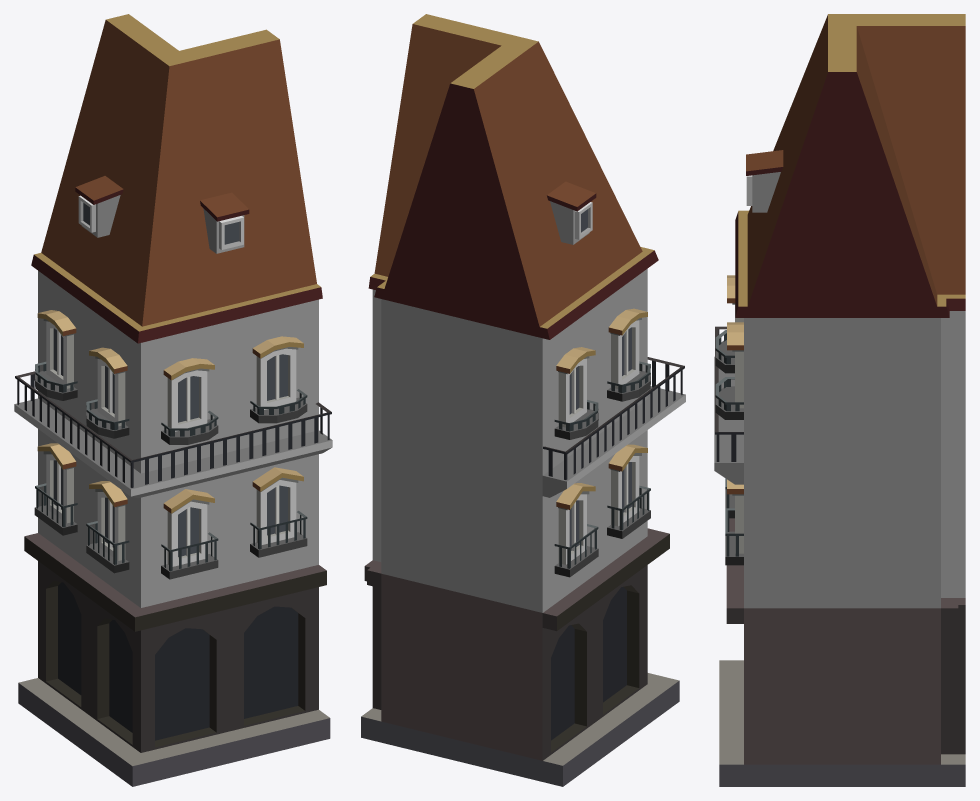
Rendered from TB_CITY_BD_T_Corner_3_C.FBX.
3 renders of one model, left to right at view 1: azimuth 30°, elevation 25°; view 2: azimuth 150°, elevation 25°; view 3: azimuth 270°, elevation 25°, orthographic. The views are drawn at different scales.
Visible parts, largest first — view 1: TB_CITY_BD_T_Corner_3_C; view 2: TB_CITY_BD_T_Corner_3_C; view 3: TB_CITY_BD_T_Corner_3_C.
Part boxes in pixels (bbox=[...]): TB_CITY_BD_T_Corner_3_C: bbox=[14, 14, 332, 786]; TB_CITY_BD_T_Corner_3_C: bbox=[361, 14, 685, 786]; TB_CITY_BD_T_Corner_3_C: bbox=[714, 14, 965, 786].
Bounding box in the file's own units: 8.15 × 25.57 × 8.15.
